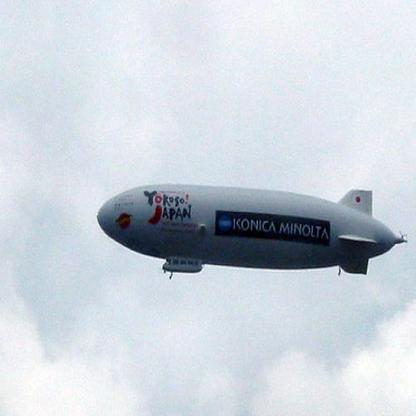Airship: (89, 166, 411, 295)
